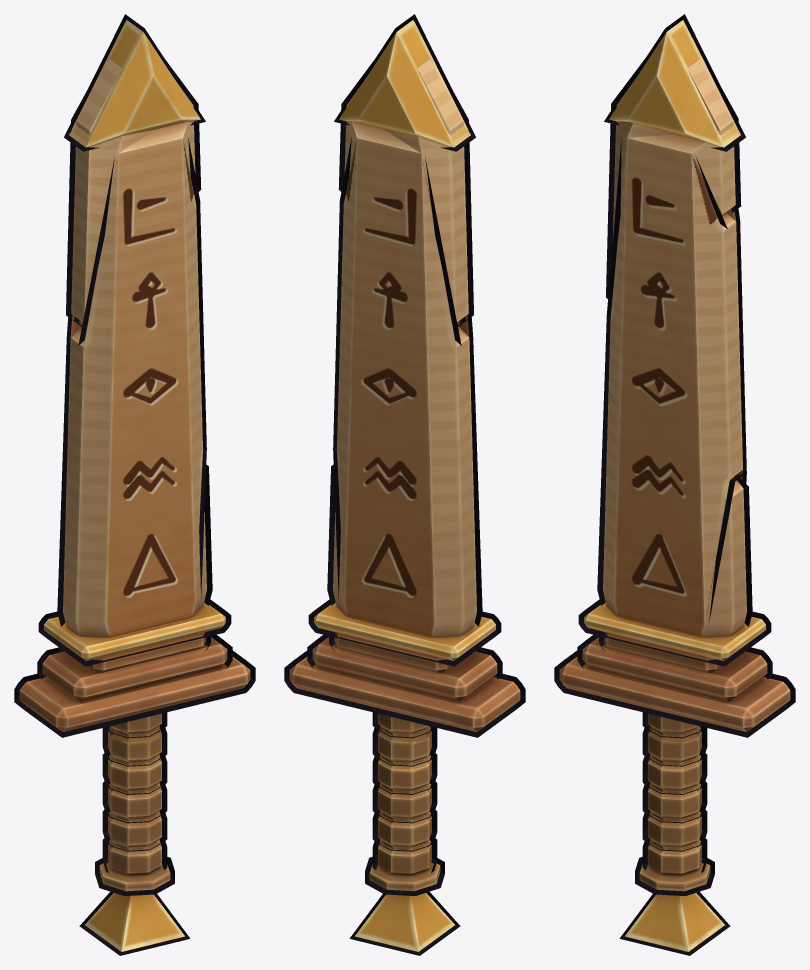
The model's file is ObeliskSword.fbx.
3 renders of one model, left to right at view 1: azimuth 30°, elevation 25°; view 2: azimuth 150°, elevation 25°; view 3: azimuth 330°, elevation 25°, orthographic.
Parts seen in each view (by area): view 1: ObeliskSword, ObeliskSwordOutline; view 2: ObeliskSword, ObeliskSwordOutline; view 3: ObeliskSword, ObeliskSwordOutline.
Part boxes in pixels (x1=…): ObeliskSword: x1=19, y1=20, x2=250, y2=951; ObeliskSwordOutline: x1=14, y1=14, x2=255, y2=955; ObeliskSword: x1=289, y1=20, x2=520, y2=951; ObeliskSwordOutline: x1=284, y1=14, x2=525, y2=955; ObeliskSword: x1=559, y1=20, x2=790, y2=951; ObeliskSwordOutline: x1=554, y1=14, x2=795, y2=955.
Size of the model in its own units: 89.84 by 386 by 37.84.
2 materials, 1 textured.
